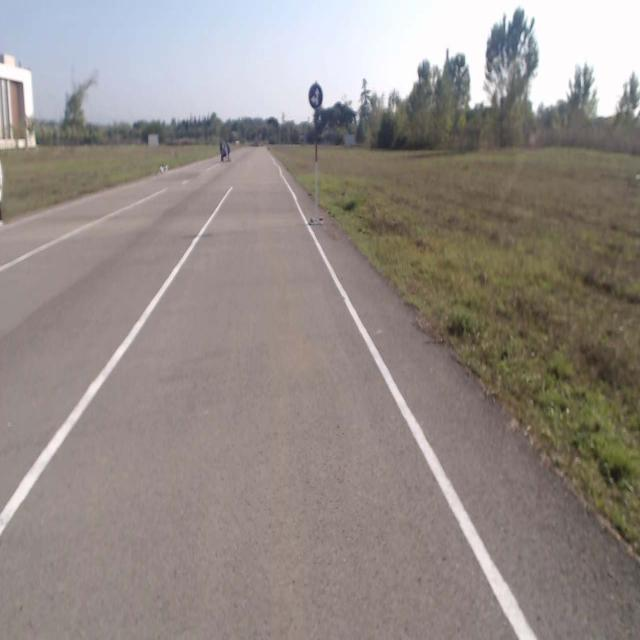ilerisol: (308, 84, 323, 108)
